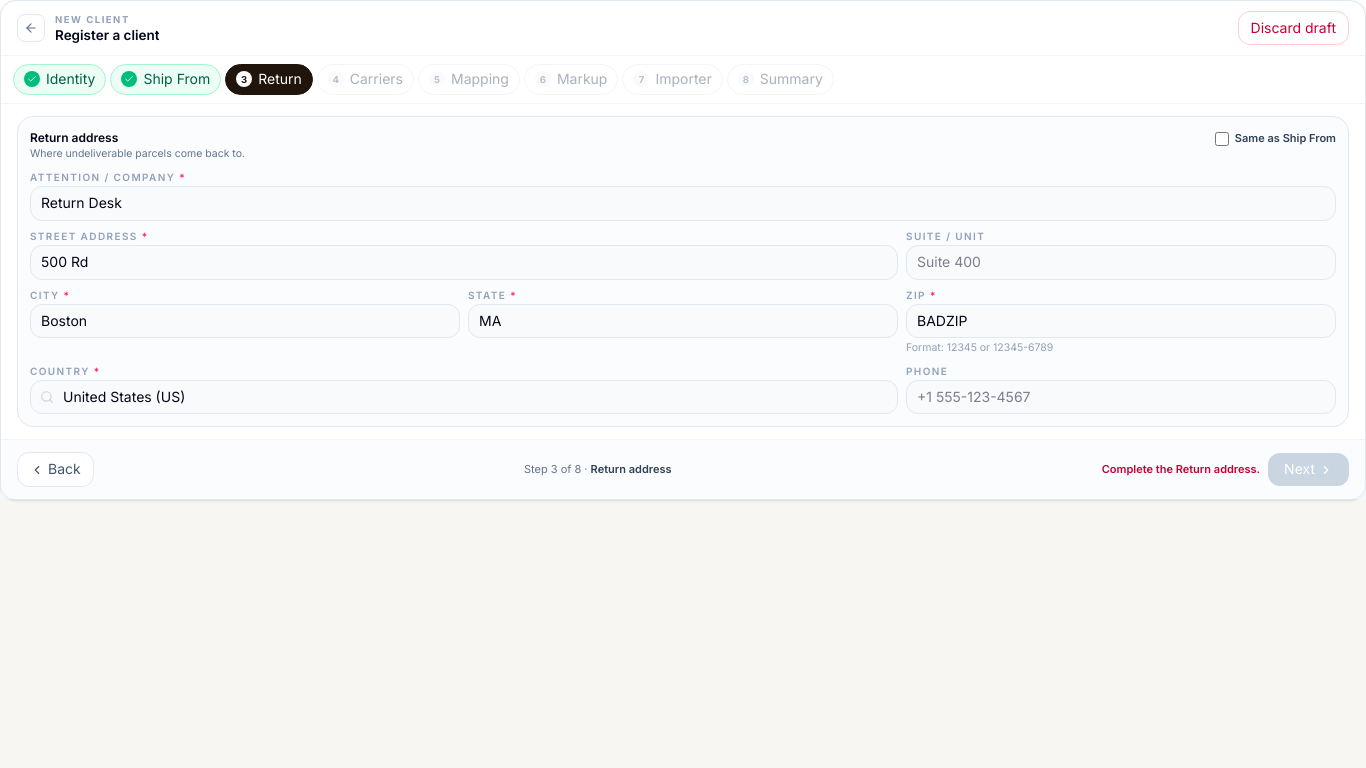
Test: ClientEditorPage · Return step · negative › same=false + invalid US zip → touched → format error surfaces
Expected: the heading "Return address" is shown, [30,130,118,145]
Click the field with placeholder "60601".
click(1121, 321)  # box [906,304,1336,338]
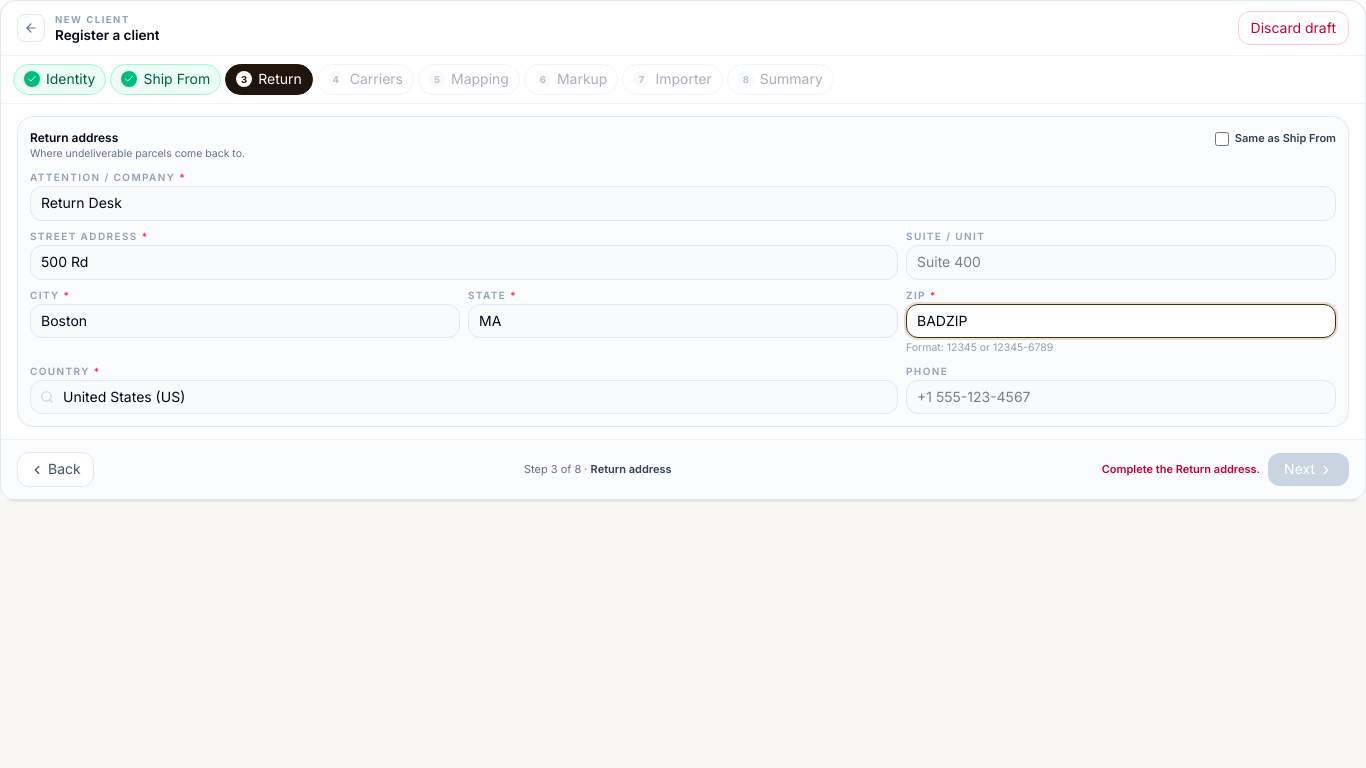
Press Tab
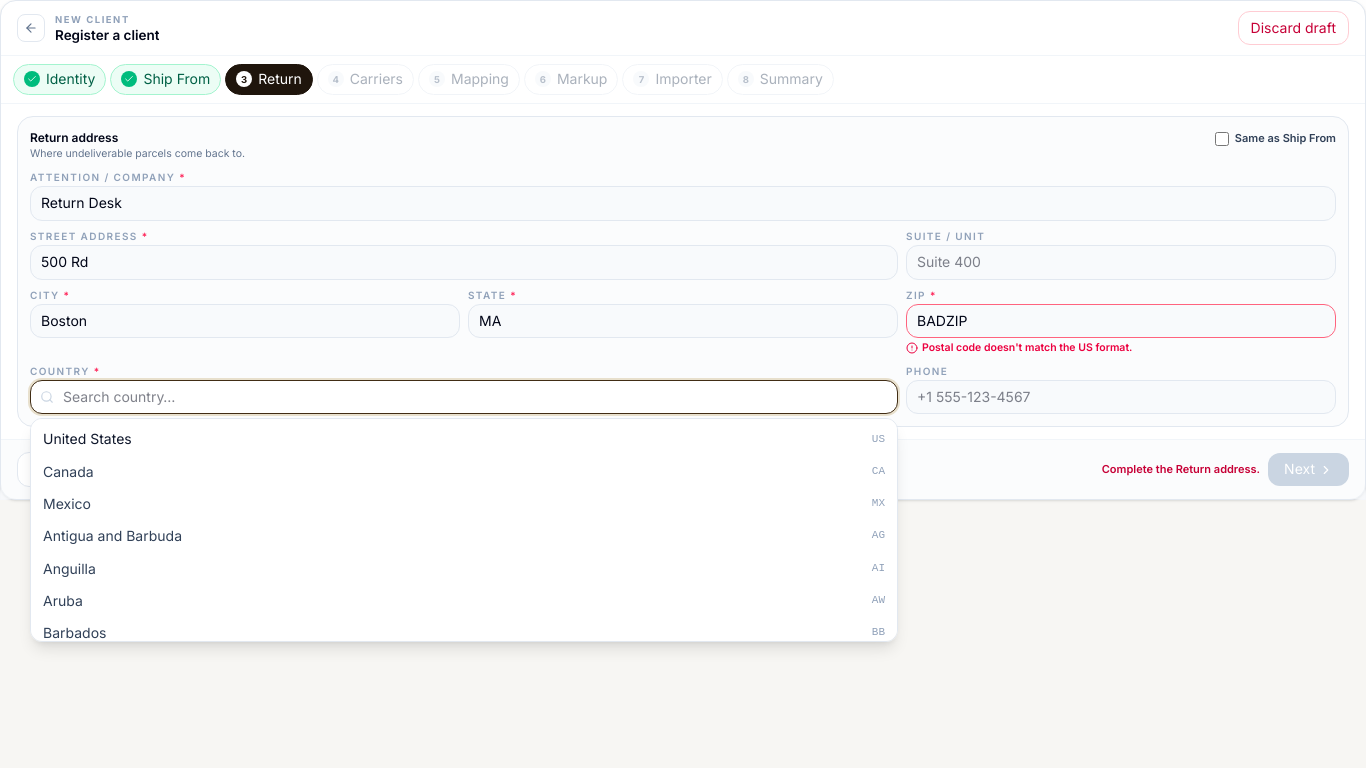
Expected: the text "Postal code doesn't match the US format." is shown, [906,341,1132,354]
